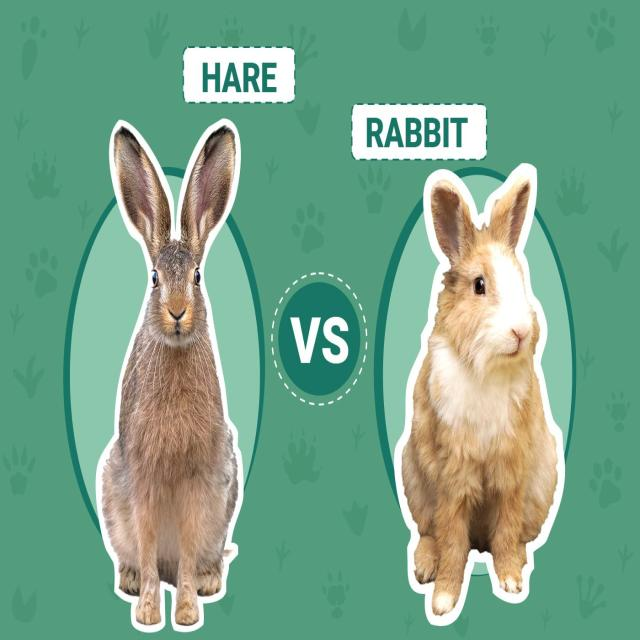Hare: (98, 118, 242, 627)
